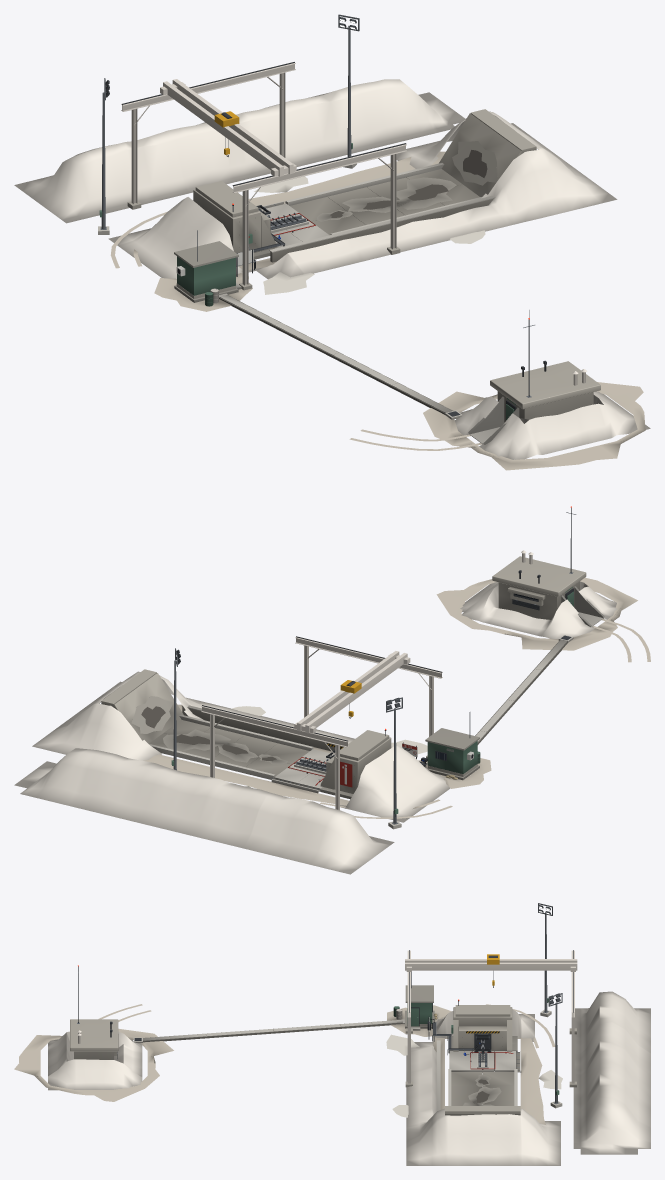
File: stand1.glb
The picture shows the model from 3 angles, top to bottom: view 1: azimuth 30°, elevation 25°; view 2: azimuth 150°, elevation 25°; view 3: azimuth 270°, elevation 25°; orthographic projection. The views are drawn at different scales.
Visible parts, largest first — view 1: stand1, stand1Bunker; view 2: stand1, stand1Bunker; view 3: stand1, stand1Bunker.
Part boxes in pixels (x1,y1,x2,y2): stand1: [14, 14, 617, 414]; stand1Bunker: [349, 310, 650, 470]; stand1: [14, 636, 567, 874]; stand1Bunker: [436, 506, 650, 662]; stand1: [143, 903, 650, 1165]; stand1Bunker: [14, 965, 173, 1101].
Bounding box in the file's own units: 36.31 × 11.65 × 60.63.
